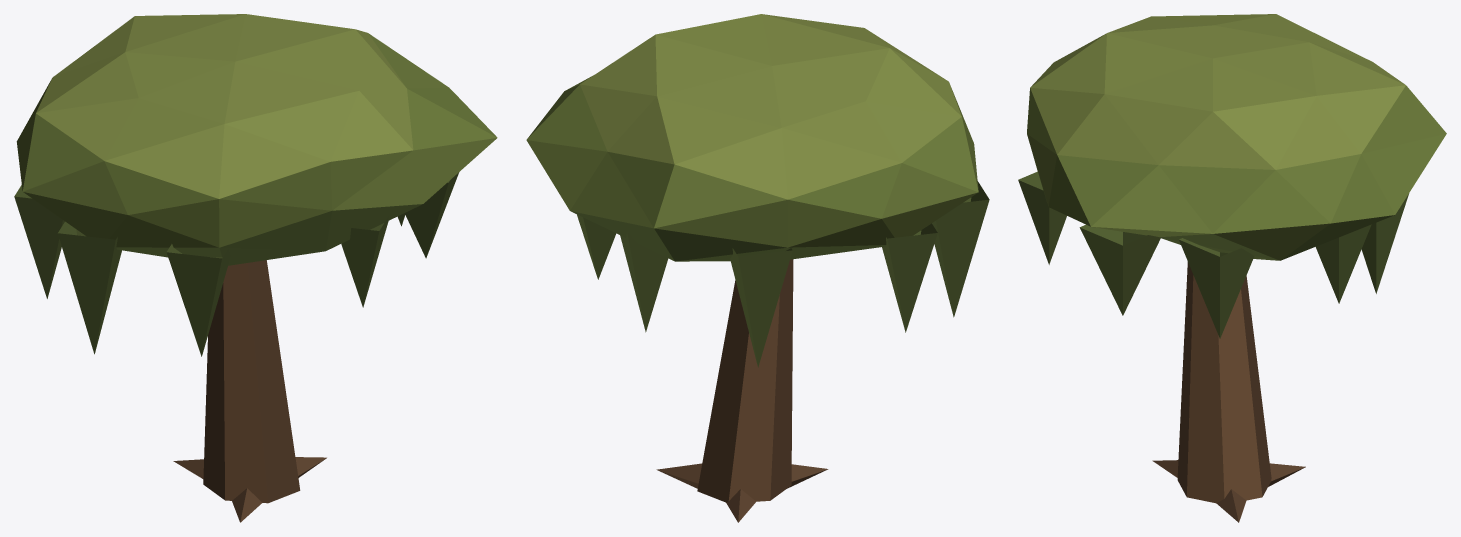
Rendered from tree_swamp_b.glb.
3 views of the same model, side by side, from view 1: azimuth 30°, elevation 25°; view 2: azimuth 150°, elevation 25°; view 3: azimuth 270°, elevation 25° (orthographic). The views are drawn at different scales.
Parts seen in each view (by area): view 1: tree_swamp_b; view 2: tree_swamp_b; view 3: tree_swamp_b.
Boxes of the visible parts, x1,y1,x2,y2 form: tree_swamp_b: (14,14,497,522); tree_swamp_b: (526,14,989,522); tree_swamp_b: (1018,14,1446,522).
Size of the model in its own units: 1.96 by 1.99 by 1.77.
